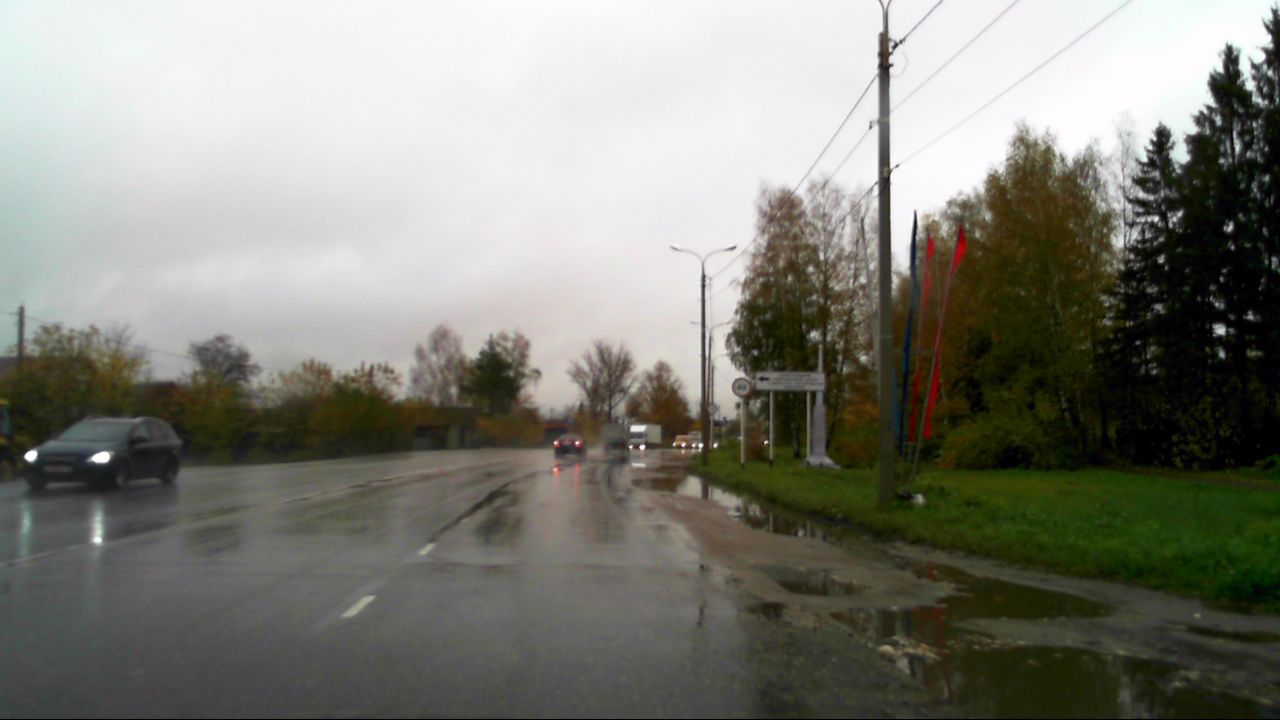speed_warning_40: (731, 376, 753, 397)
